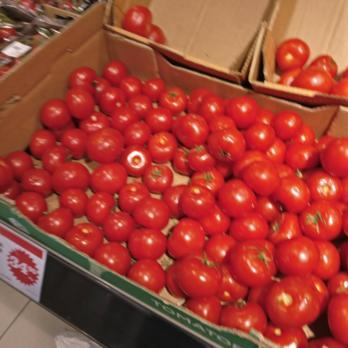Tomato: (175, 109, 348, 336), (38, 60, 186, 231)
